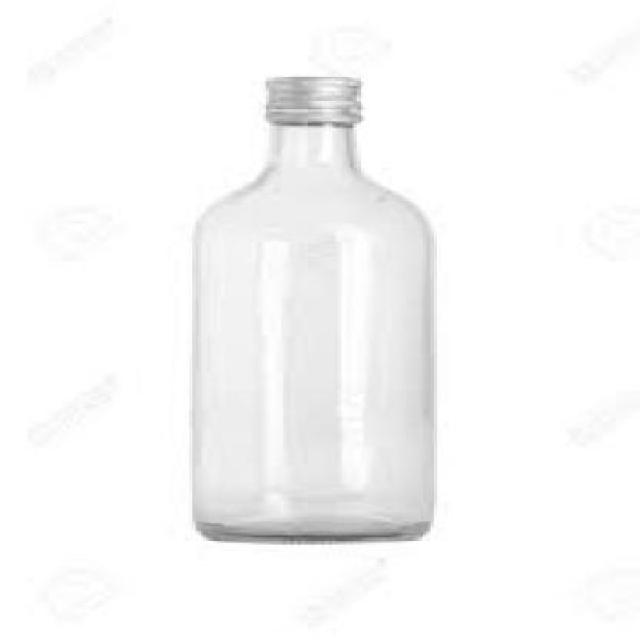kaca: (186, 112, 431, 543)
